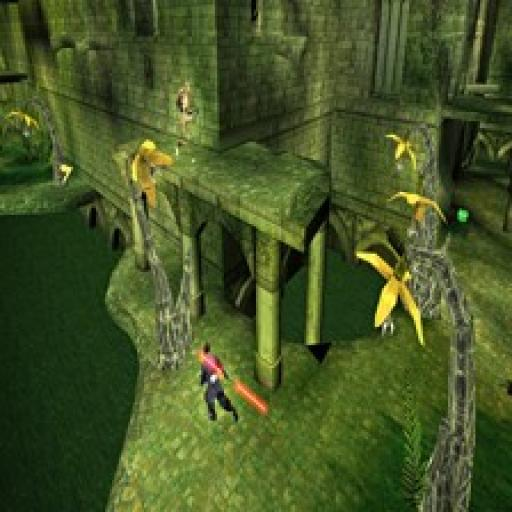lightsaber: (196, 348, 268, 416)
